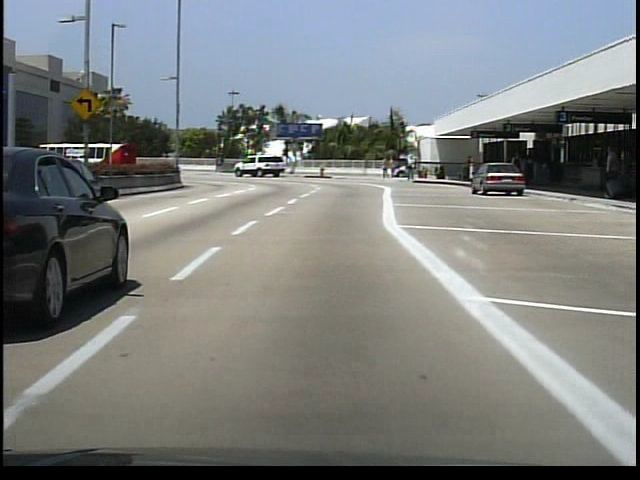person: (598, 138, 621, 203), (509, 149, 527, 189), (464, 154, 476, 183), (407, 151, 417, 183), (381, 154, 390, 179), (389, 156, 397, 179)
